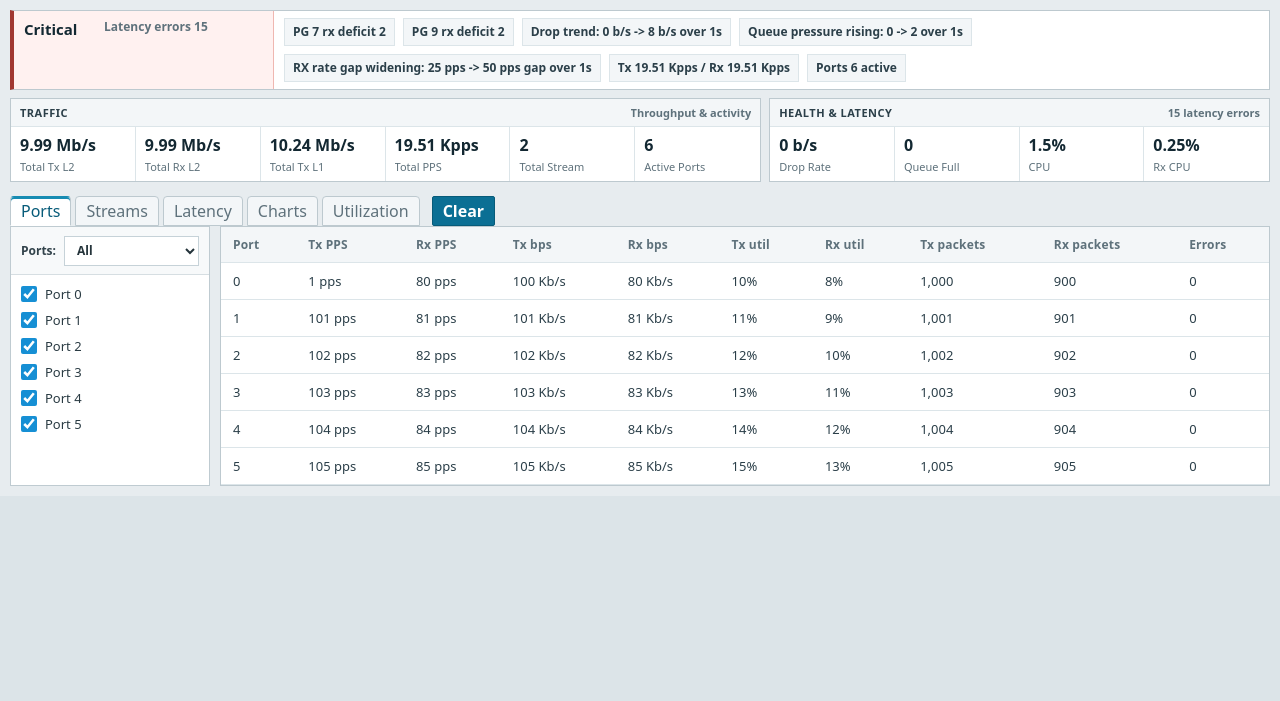
Scenario: DashboardWorkspace › groups six run trends above two equal port charts and maps both L2 series
What coordinates should you click on to do the following:
click the tab "Charts"
I would click on:
 (282, 211)
Its box is left=247, top=196, right=318, bottom=226.
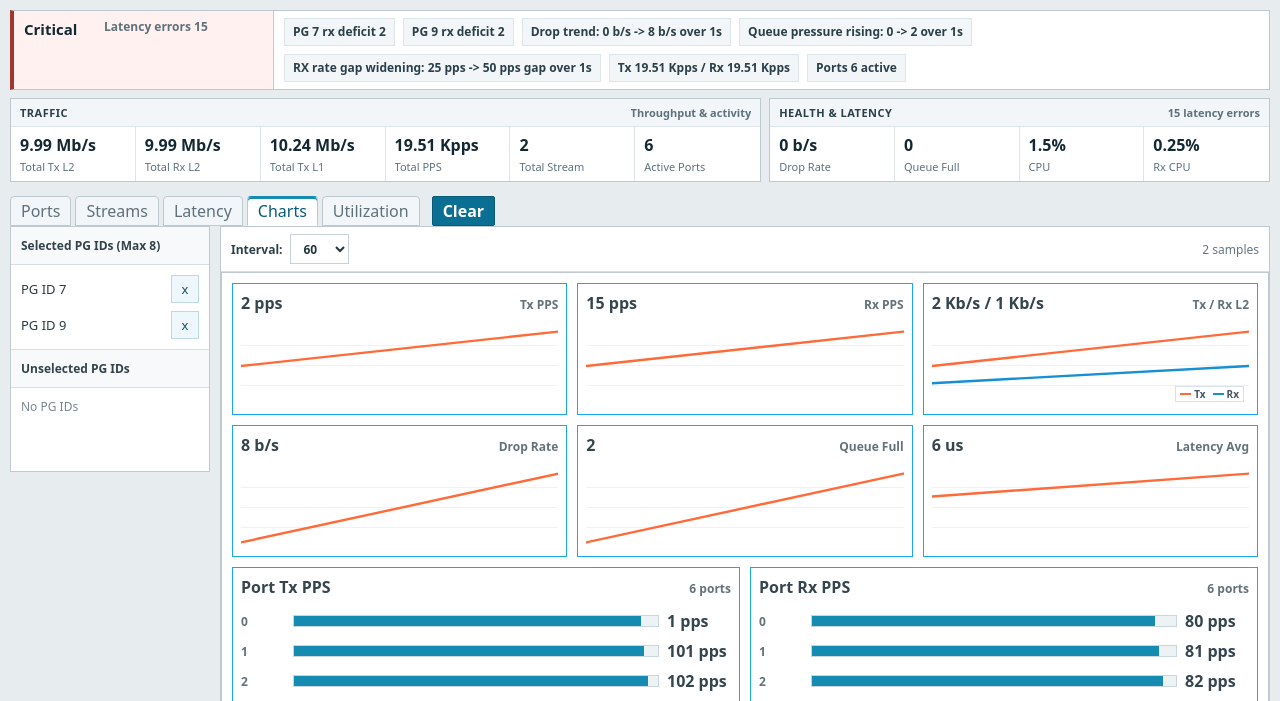
Check: the text "2 Kb/s / 1 Kb/s" is shown, box left=932, top=292, right=1044, bottom=314
